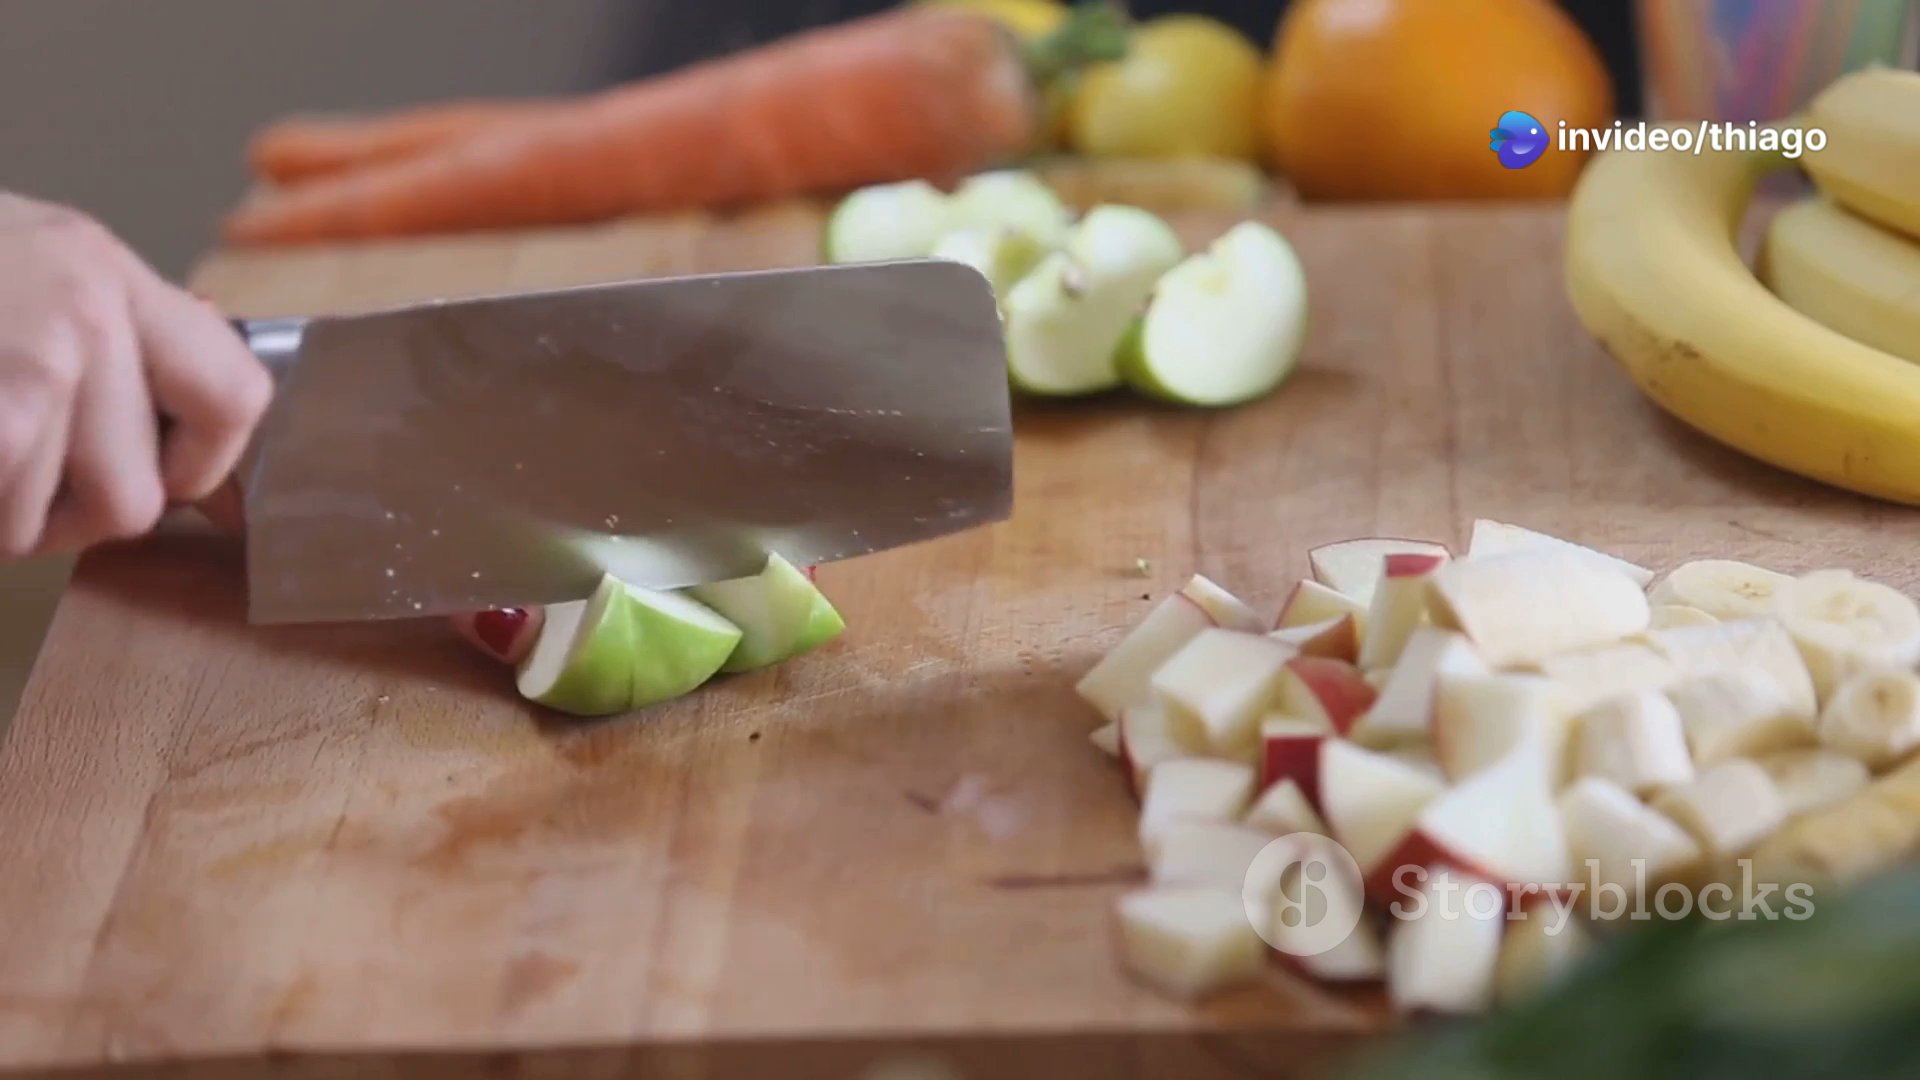cortante: (211, 256, 1014, 625)
